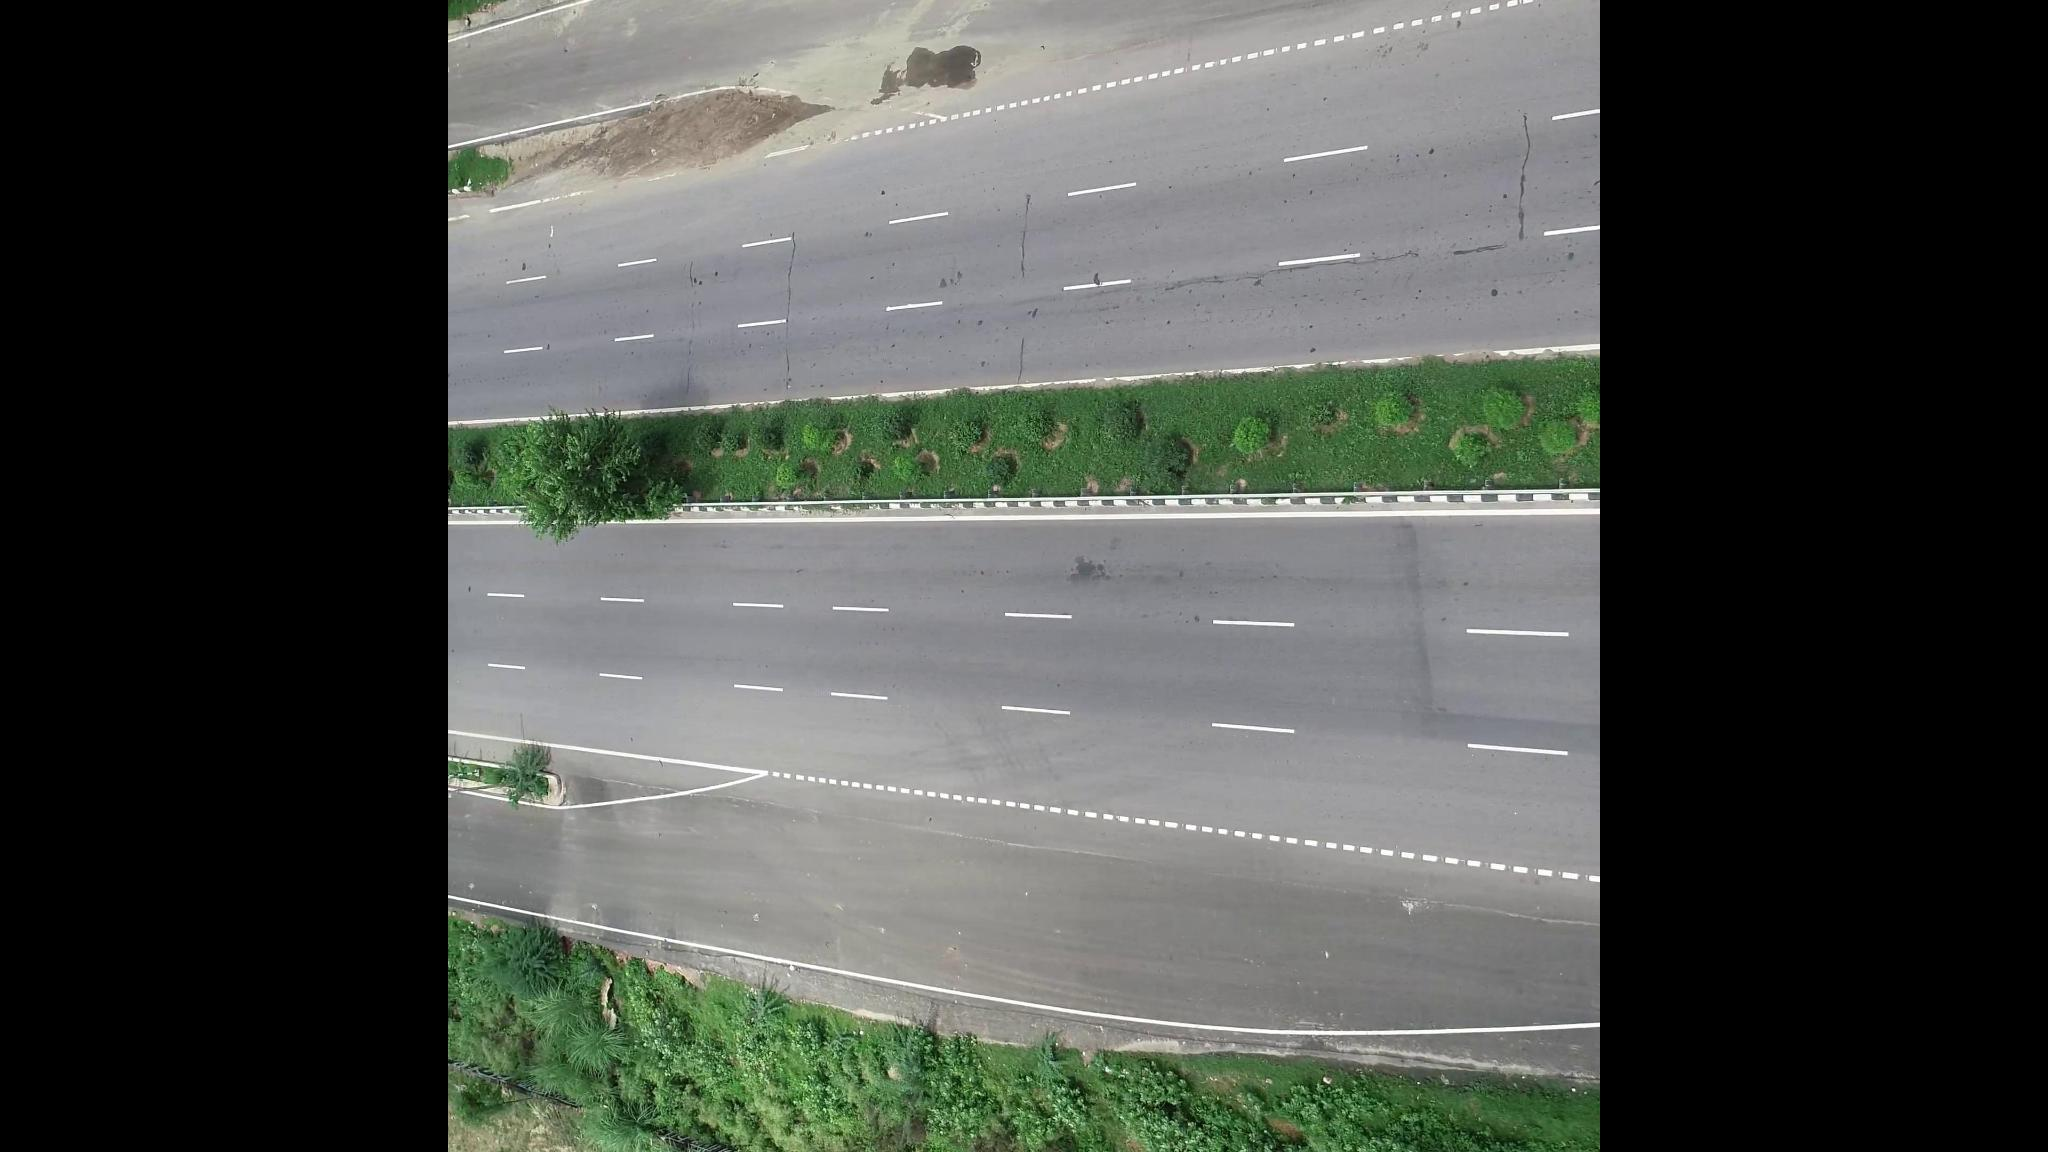Cracks: (1158, 243, 1414, 300)
